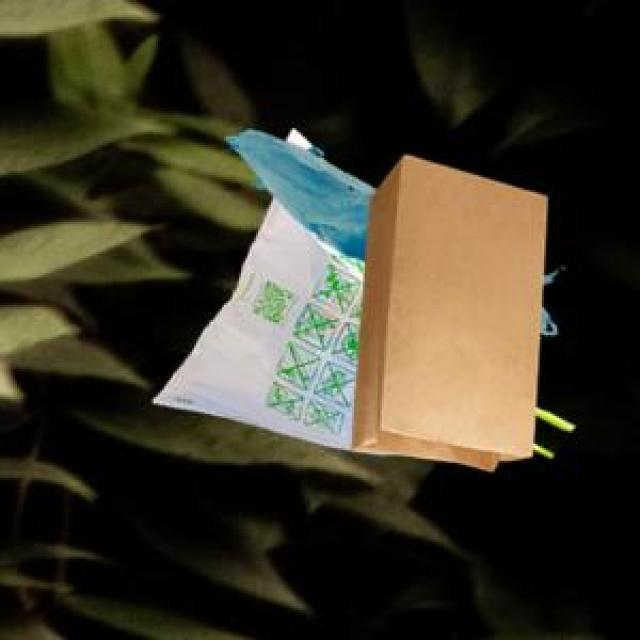paper: (348, 152, 542, 467)
